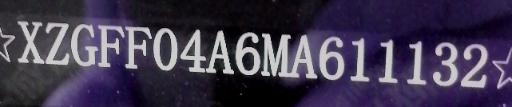letter: (11, 16, 43, 63), (204, 27, 236, 74), (260, 31, 292, 76), (124, 20, 154, 67), (400, 39, 430, 86), (315, 37, 347, 80), (233, 30, 263, 75), (373, 40, 403, 85), (42, 20, 70, 67), (97, 20, 125, 67), (288, 35, 318, 78), (432, 38, 458, 87), (460, 42, 488, 87), (72, 19, 98, 66), (152, 24, 178, 69), (178, 29, 204, 72), (346, 37, 372, 80)
